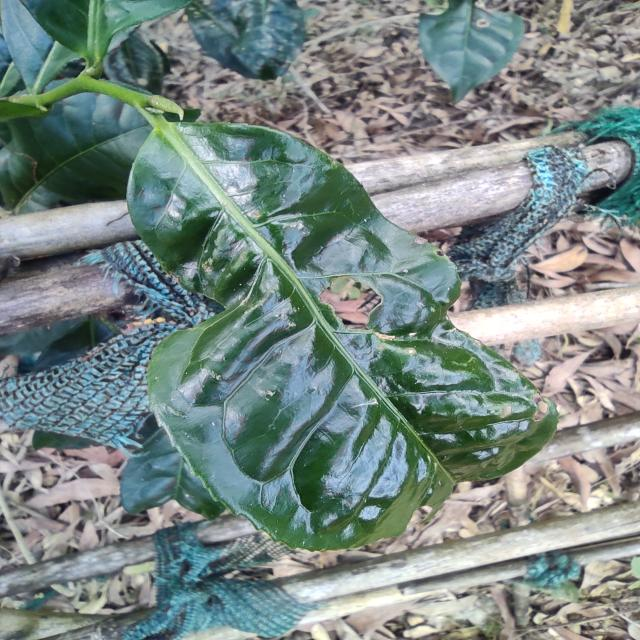Category D(7+ days, Not for Tea): (104, 101, 581, 575)
